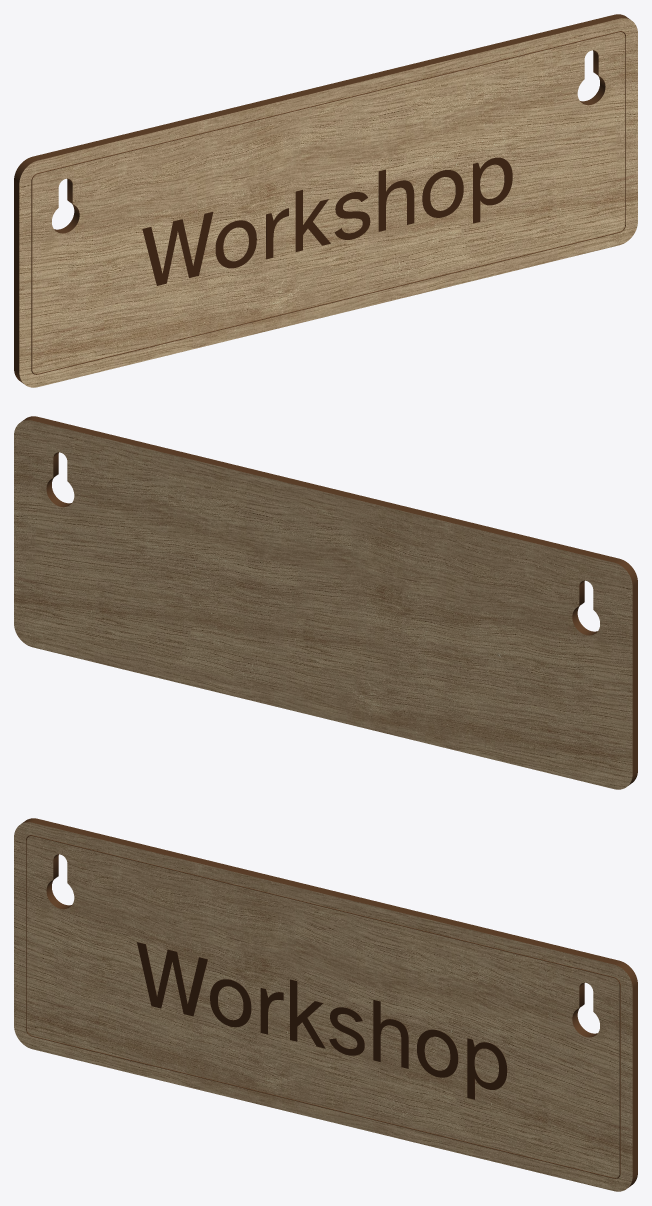
File: wall-sign.glb
3 renders of one model, top to bottom at view 1: azimuth 30°, elevation 25°; view 2: azimuth 150°, elevation 25°; view 3: azimuth 330°, elevation 25°, orthographic.
Parts seen in each view (by area): view 1: body0, engrave0, score0; view 2: body0; view 3: body0, engrave0, score0.
Part boxes in pixels (x1,y1,x2,y2): body0: (14, 14, 637, 387); engrave0: (142, 157, 512, 285); score0: (31, 31, 625, 374); body0: (14, 416, 637, 789); body0: (14, 818, 637, 1191); engrave0: (137, 942, 507, 1099); score0: (26, 835, 620, 1178).
Size of the model in its own units: 0.2 by 0.07 by 0.00313.
Materials: 4 (1 with a texture image).
